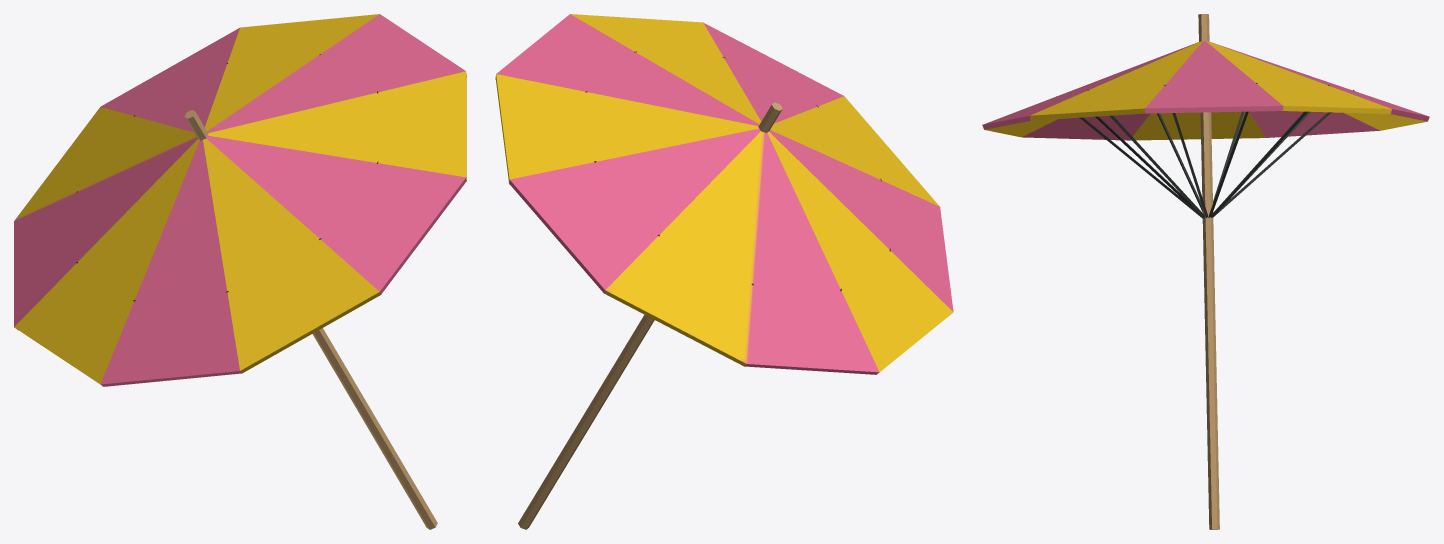
File: slunecnik_022cb583.glb
3 renders of one model, left to right at view 1: azimuth 30°, elevation 25°; view 2: azimuth 150°, elevation 25°; view 3: azimuth 270°, elevation 25°, orthographic. The views are drawn at different scales.
Parts seen in each view (by area): view 1: dum; view 2: dum; view 3: dum.
Part boxes in pixels (left/top/right/bottom): dum: left=14, top=14, right=466, bottom=529; dum: left=495, top=14, right=953, bottom=529; dum: left=982, top=14, right=1429, bottom=529.
Size of the model in its own units: 1.82 by 2.17 by 2.09.
Materials: 1 (1 with a texture image).
